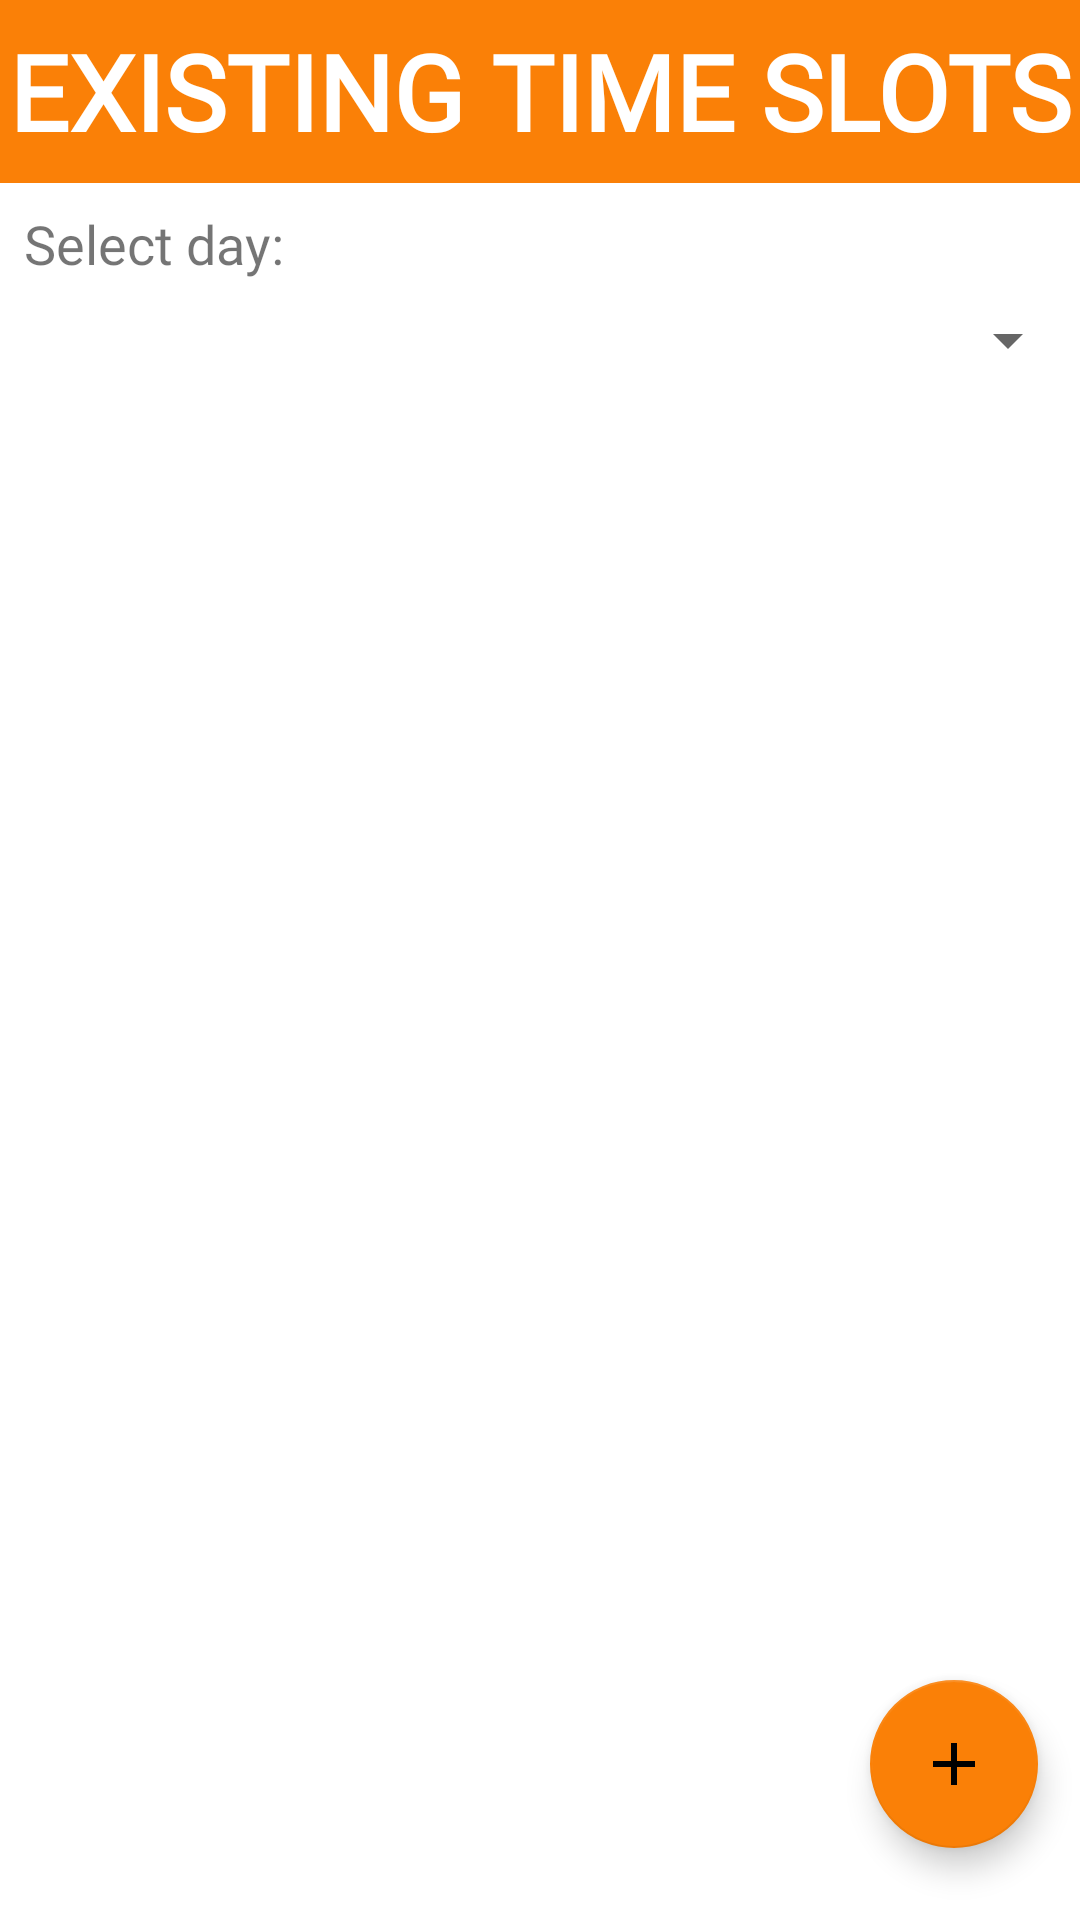

Icons on this 1080w x 1920h Android screen, each with its box as (x1, y1, x2, y2):
add: (870, 1680, 1038, 1848)
